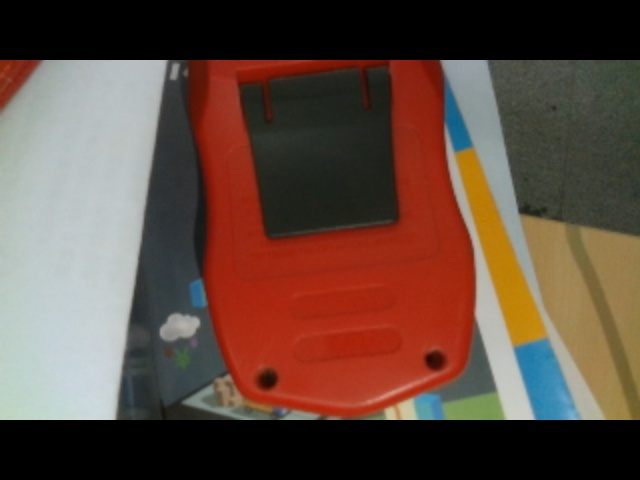Screw holes: (253, 364, 282, 393), (424, 348, 451, 372)
